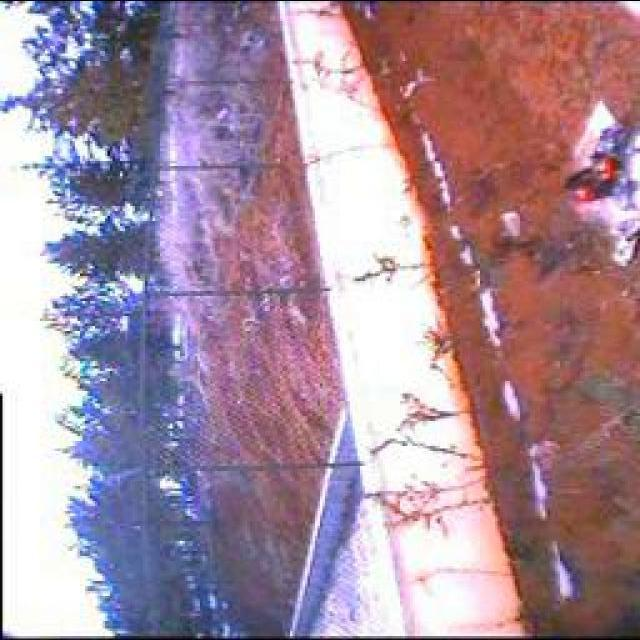Fire: (560, 149, 624, 211)
